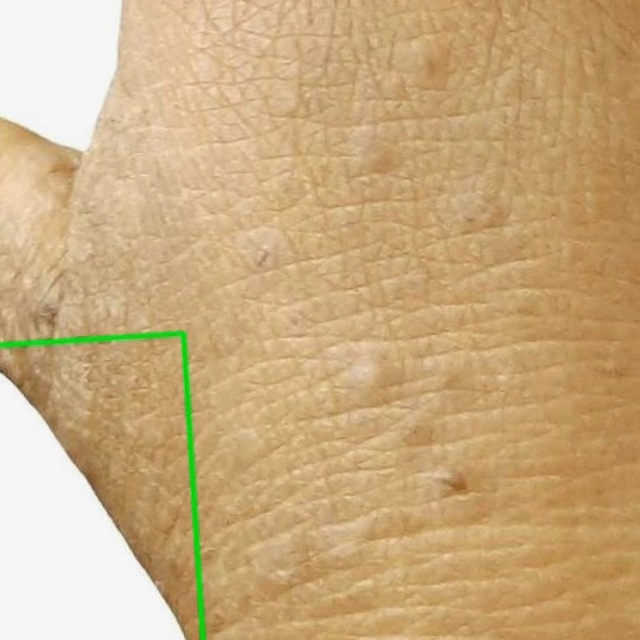Scabies: (0, 333, 203, 639)
